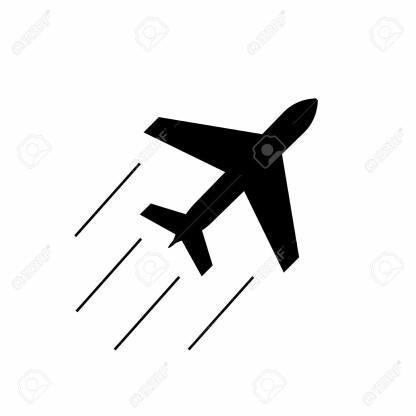CIV_Plane: (133, 96, 320, 289)
